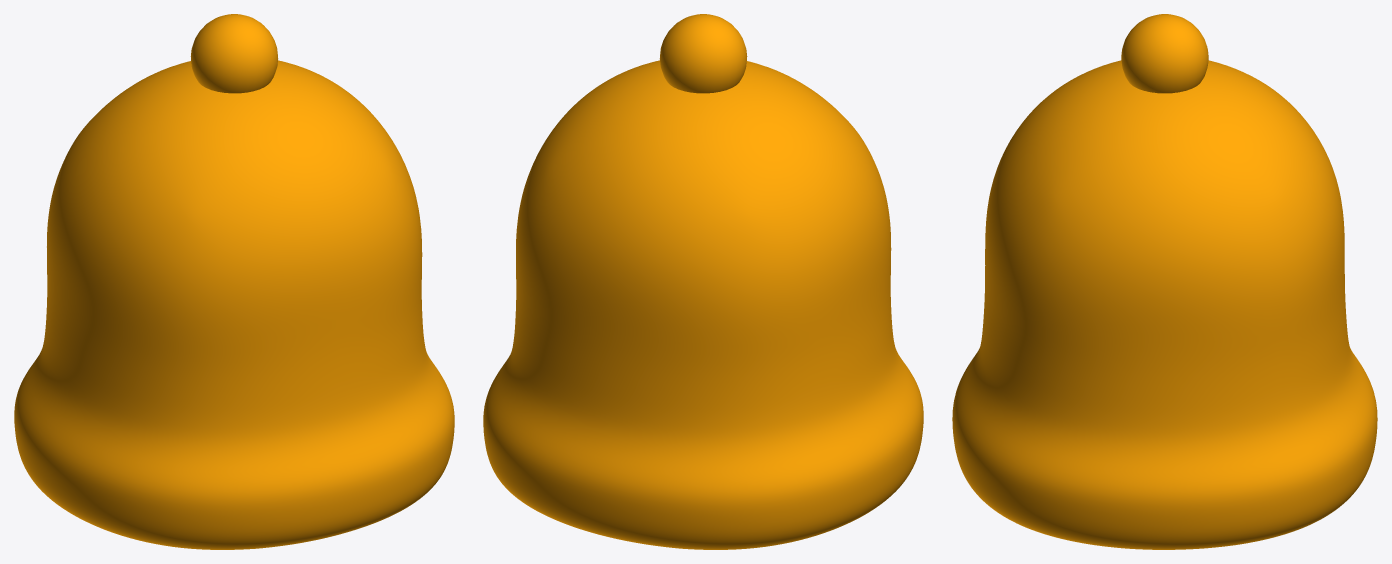
Rendered from bell.glb.
3 renders of one model, left to right at view 1: azimuth 30°, elevation 25°; view 2: azimuth 150°, elevation 25°; view 3: azimuth 270°, elevation 25°, orthographic.
Visible parts, largest first — view 1: Cube.057, Sphere.005; view 2: Cube.057, Sphere.005; view 3: Cube.057, Sphere.005.
Part boxes in pixels (bbox=[...]): Cube.057: bbox=[14, 60, 454, 549]; Sphere.005: bbox=[190, 14, 278, 93]; Cube.057: bbox=[483, 60, 923, 549]; Sphere.005: bbox=[659, 14, 747, 93]; Cube.057: bbox=[952, 60, 1377, 549]; Sphere.005: bbox=[1121, 14, 1208, 93].
Size of the model in its own units: 17.05 by 21.66 by 16.68.
